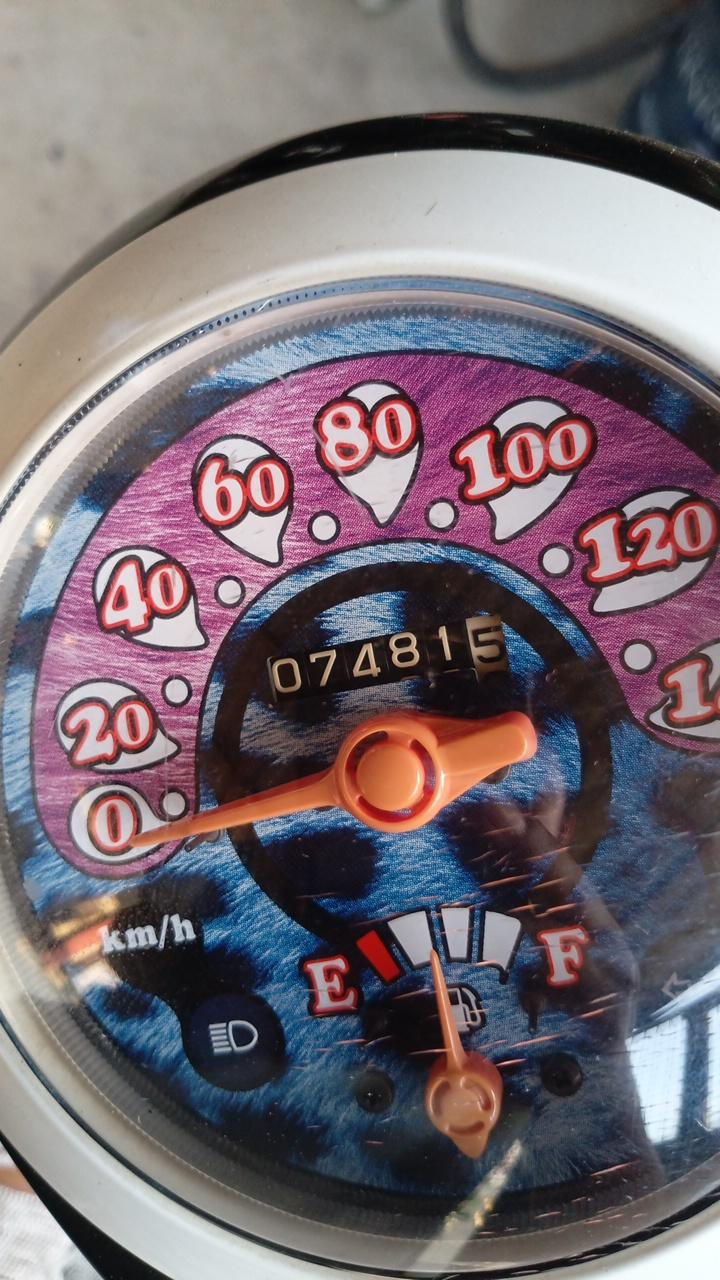0: (271, 656, 303, 695)
1: (437, 623, 453, 664)
4: (351, 640, 382, 679)
5: (471, 620, 507, 664)
7: (308, 647, 338, 688)
8: (388, 631, 421, 670)
odometer: (260, 609, 512, 709)
